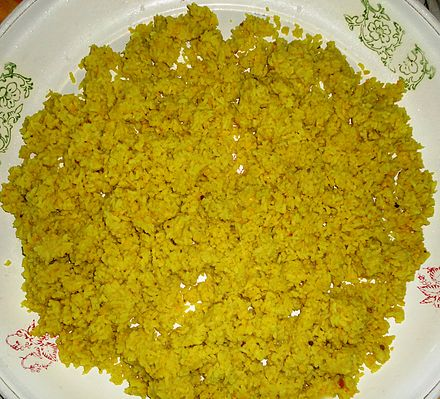khichuri: (15, 11, 414, 399)
